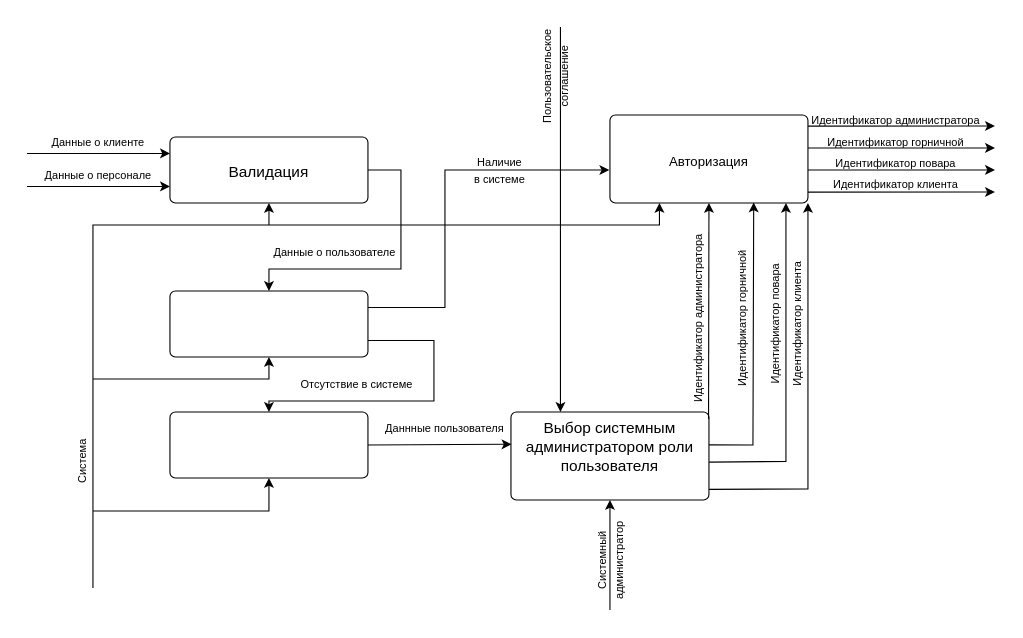
The diagram is 1023 pixels wide and 638 high, and some of its shapes have lost their labels. Here are the shapes that lost their labels. From the top down, the centre of each, then its label:
At point 268,323: "Проверка на наличие пользователя в системе".
At point 268,444: "Регистрация пользователя".
